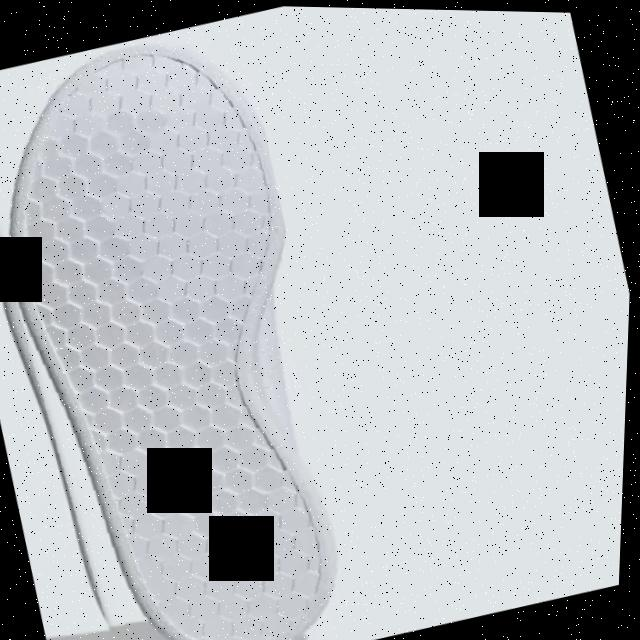shoe: (0, 15, 395, 640)
